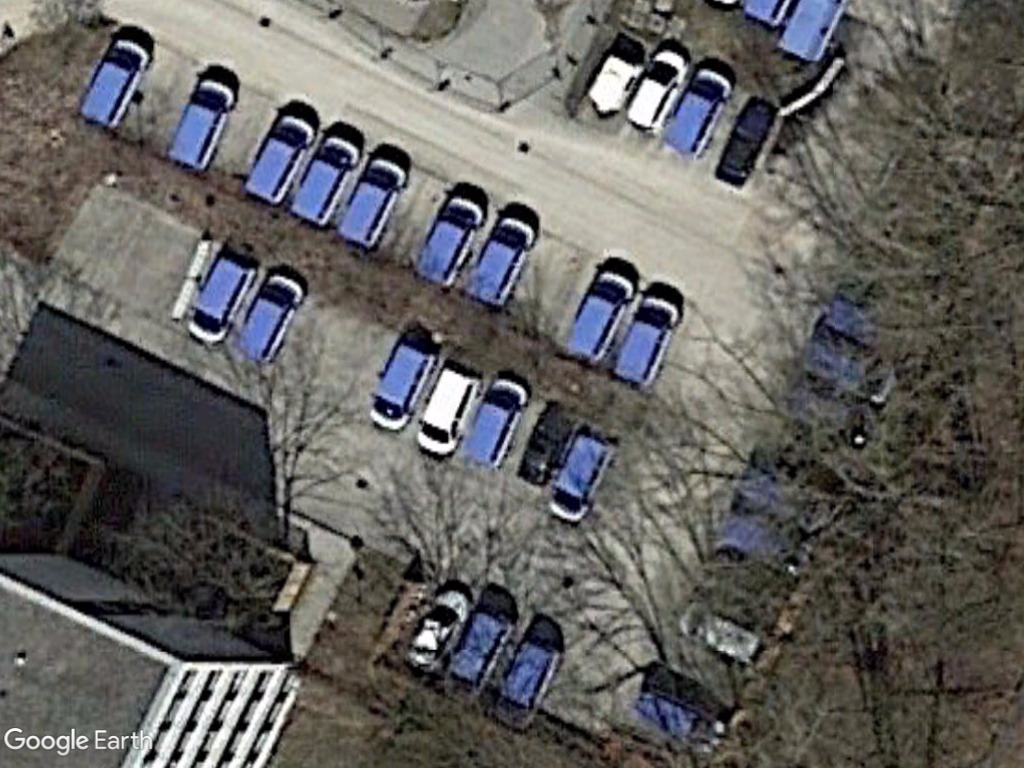van: (74, 35, 154, 134), (539, 426, 617, 527), (333, 153, 410, 255), (560, 267, 641, 363), (608, 292, 686, 390), (407, 365, 485, 463), (241, 113, 319, 207), (455, 374, 531, 470), (165, 79, 240, 176), (465, 209, 539, 307), (233, 270, 309, 365), (414, 191, 487, 288), (661, 66, 737, 159), (287, 134, 362, 228), (364, 339, 438, 434), (184, 253, 257, 348), (624, 48, 690, 137)
